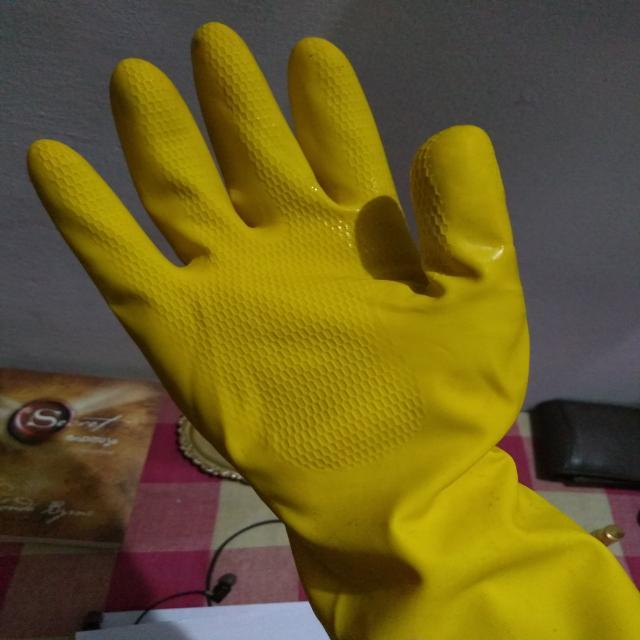glove_hand: (24, 16, 636, 638)
